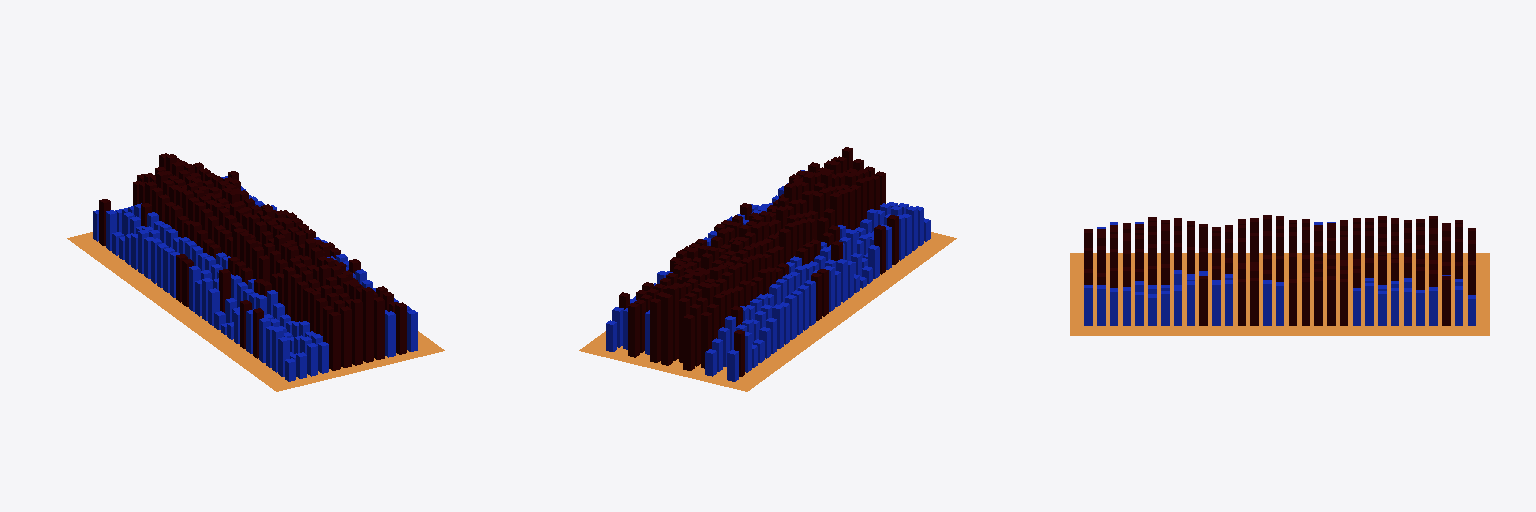
The model's file is bar_model_2018.obj.
3 renders of one model, left to right at view 1: azimuth 30°, elevation 25°; view 2: azimuth 150°, elevation 25°; view 3: azimuth 270°, elevation 25°, orthographic.
Visible parts, largest first — view 1: Plane, bar_2018-8-1_Cube.12024, bar_2018-7-1_Cube.11993, bar_2018-5-1_Cube.11933, bar_2018-9-1_Cube.12055, bar_2018-6-1_Cube.11963, bar_2018-11-1_Cube.12116; view 2: Plane, bar_2018-7-31_Cube.12023, bar_2018-8-31_Cube.12054, bar_2018-5-31_Cube.11962, bar_2018-10-31_Cube.12115; view 3: Plane.
Part boxes in pixels (x1,y1,x2,y2): Plane: (67,232,444,391); bar_2018-8-1_Cube.12024: (362,287,373,362); bar_2018-7-1_Cube.11993: (351,299,362,365); bar_2018-5-1_Cube.11933: (329,312,340,370); bar_2018-9-1_Cube.12055: (374,297,384,359); bar_2018-6-1_Cube.11963: (340,306,351,367); bar_2018-11-1_Cube.12116: (395,302,406,354); Plane: (579,232,956,391); bar_2018-7-31_Cube.12023: (661,293,672,365); bar_2018-8-31_Cube.12054: (650,298,660,362); bar_2018-5-31_Cube.11962: (683,314,694,370); bar_2018-10-31_Cube.12115: (628,303,639,357); Plane: (1070,253,1489,335).
Size of the model in its own units: 22.9 by 10 by 49.35.